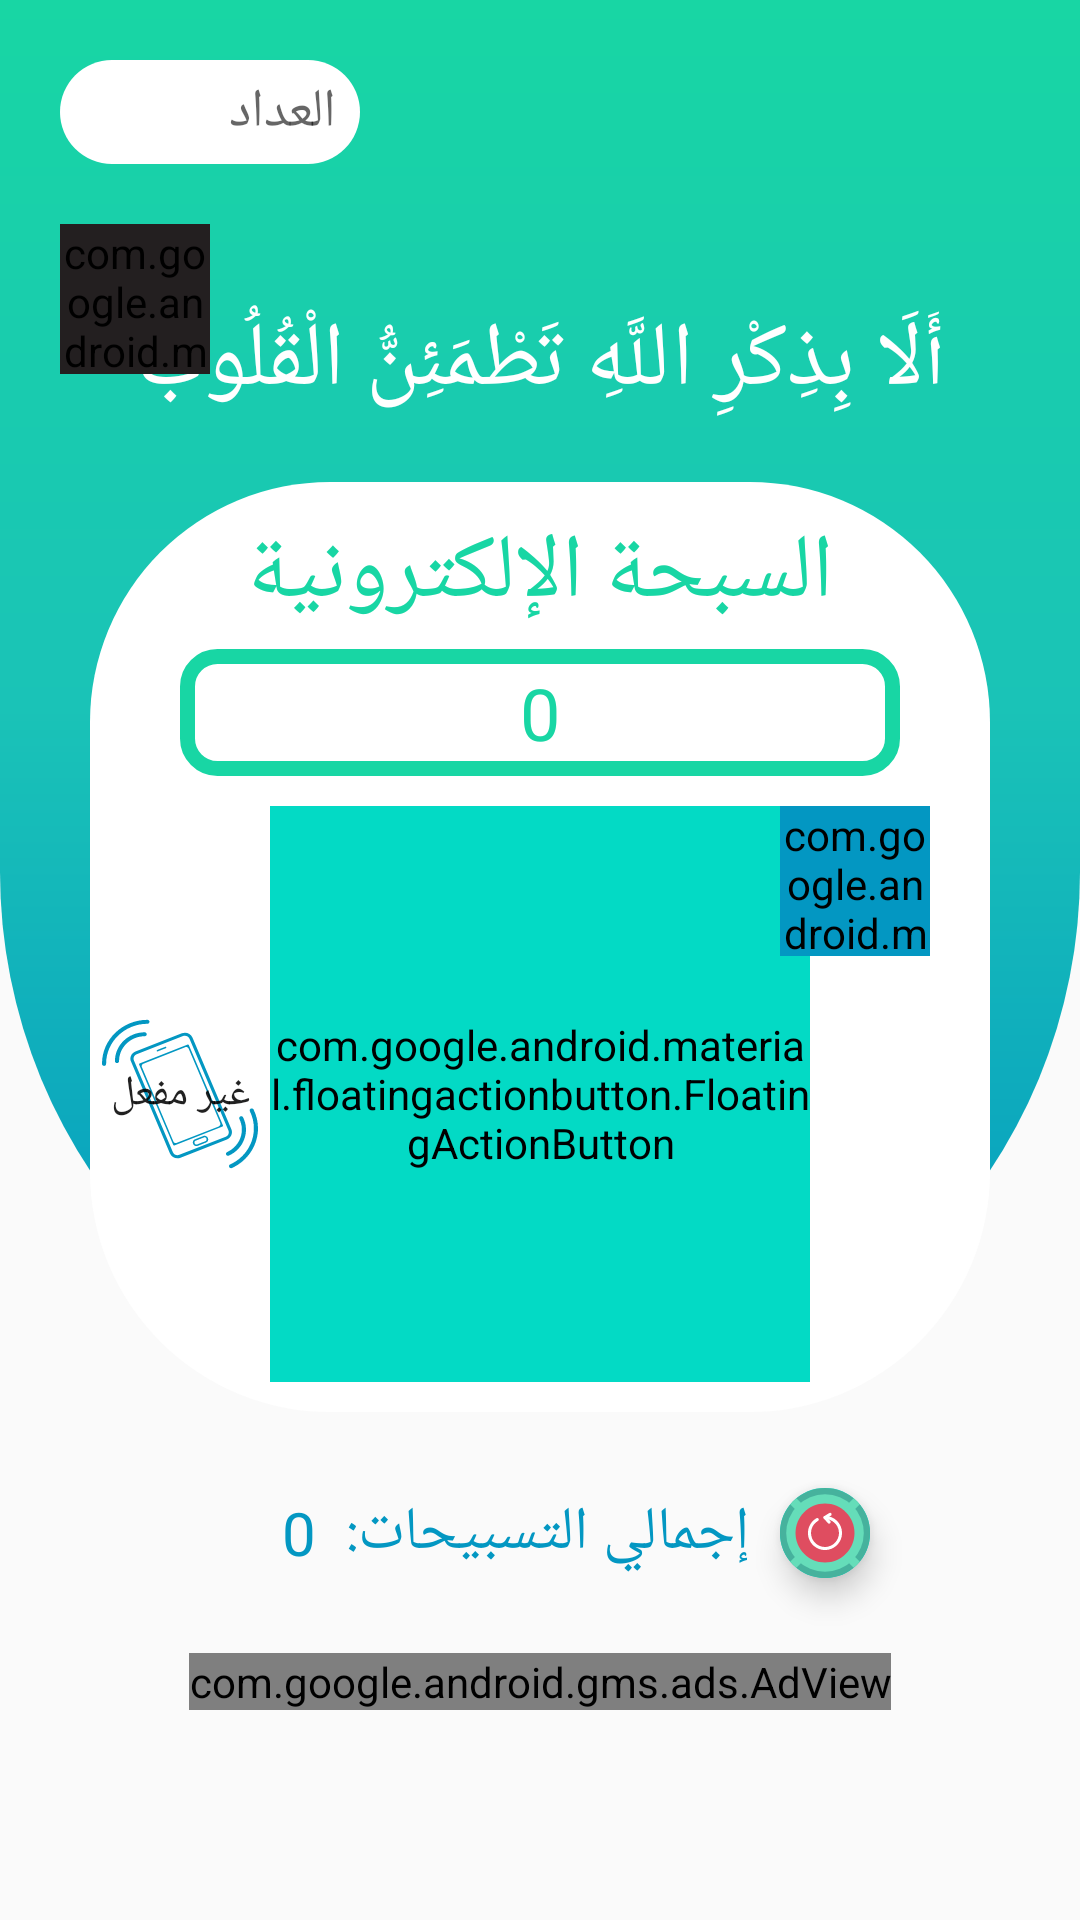

Where to tap for icons on this 1080 × 1920 app screen, as (x=x, y=y):
reset: (x=825, y=1533)
